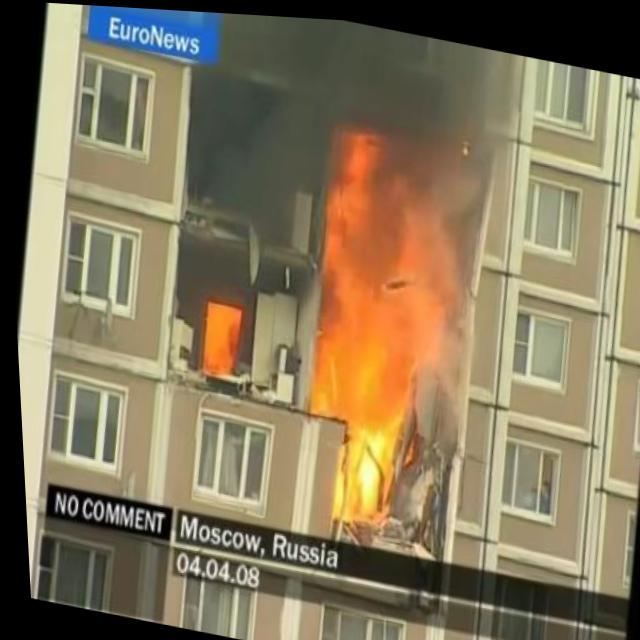fire: (280, 85, 497, 527), (196, 299, 245, 382)
